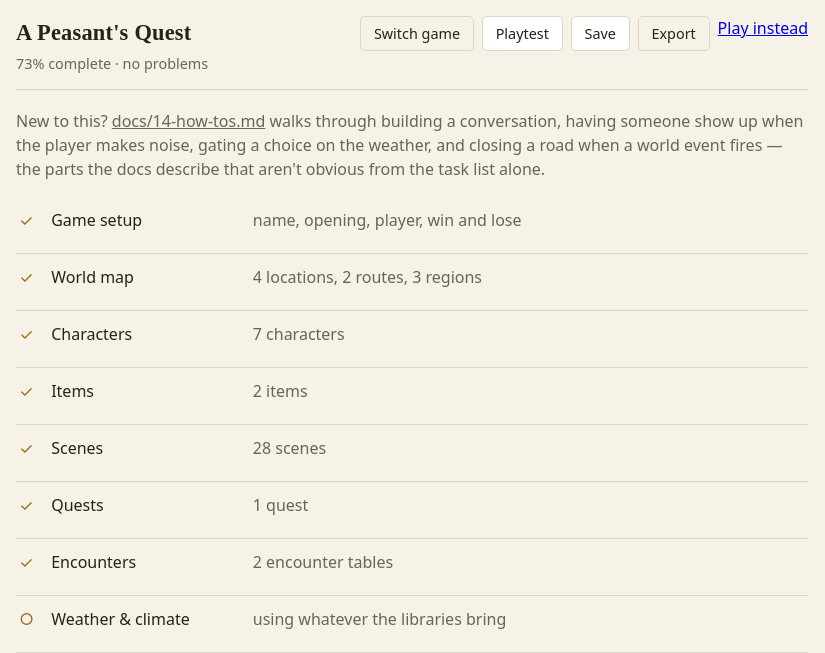
Test: a section › can go back to the task list
Expected: the heading "A Peasant's Quest" is shown, [16,16,208,50]
Click the button "✓ World map 4 locations, 2 routes, 3 regions" at (412, 282), box [16,254,808,310]
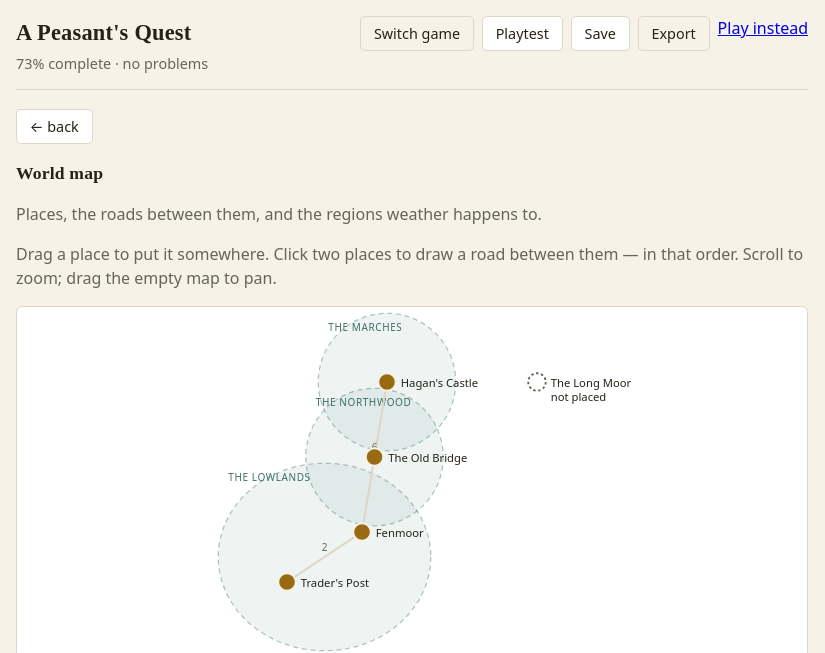
Click the button "← back" at (54, 126), box [16,109,93,144]
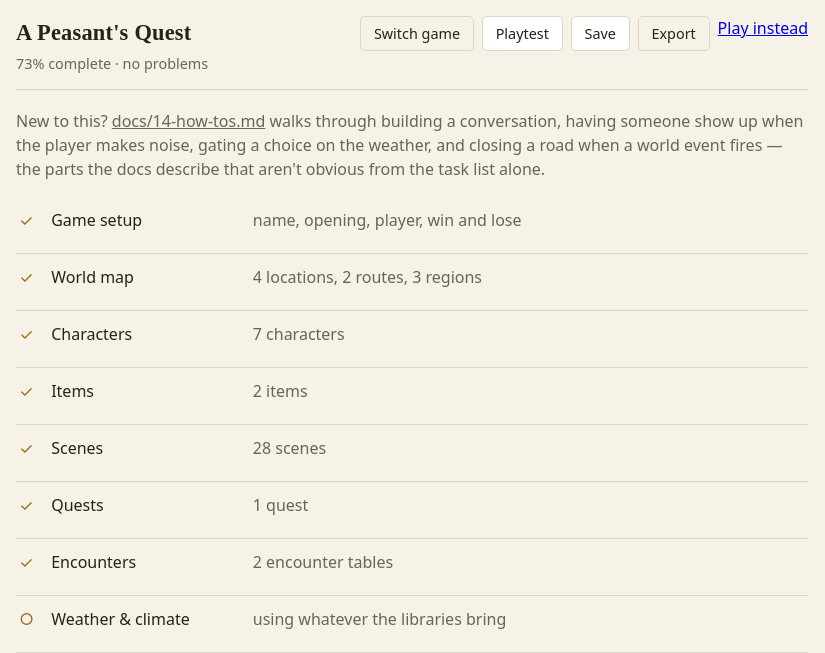
Now the button "✓ Characters 7 characters" is shown, box [16,311,808,367]
